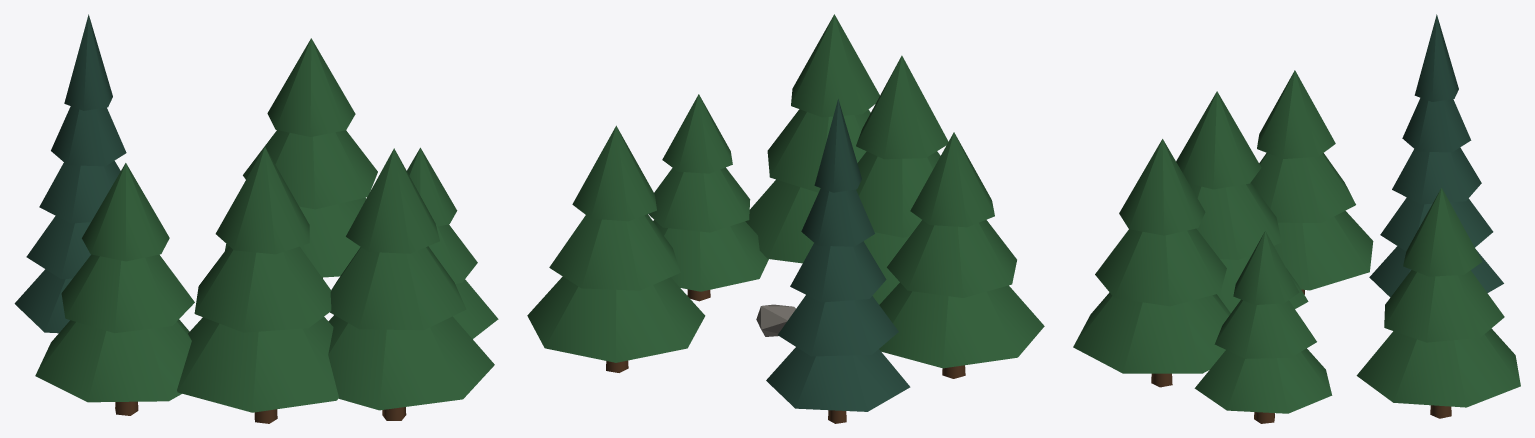
The model's file is sawyer_pine_stand_b.glb.
3 views of the same model, side by side, from view 1: azimuth 30°, elevation 25°; view 2: azimuth 150°, elevation 25°; view 3: azimuth 270°, elevation 25° (orthographic). The views are drawn at different scales.
Parts seen in each view (by area): view 1: pine_1_tier0, pine_0_tier0, pine_2_tier0, pine_1_tier1, pine_0_tier1, pine_2_tier1, pine_5_tier1, pine_1_tier2, pine_0_tier2, pine_5_tier2, pine_2_tier2, spruce_6_tier3 (+8 smaller); view 2: pine_5_tier0, pine_2_tier0, pine_2_tier1, pine_5_tier1, spruce_6_tier0, spruce_6_tier1, pine_1_tier2, pine_3_tier0, pine_0_tier2, pine_3_tier1, pine_1_tier1, pine_5_tier2 (+9 smaller); view 3: pine_0_tier0, pine_5_tier0, pine_0_tier1, pine_5_tier1, pine_3_tier0, pine_2_tier0, pine_2_tier1, pine_1_tier2, pine_0_tier2, pine_1_tier1, pine_3_tier1, pine_5_tier2 (+8 smaller).
Boxes of the visible parts, x1,y1,x2,y2 form: pine_1_tier0: (177,317,338,412); pine_0_tier0: (328,315,494,410); pine_2_tier0: (35,319,191,402); pine_1_tier1: (194,246,331,332); pine_0_tier1: (330,246,466,330); pine_2_tier1: (61,254,194,333); pine_5_tier1: (243,130,377,209); pine_1_tier2: (215,147,309,254); pine_0_tier2: (346,148,439,253); pine_5_tier2: (267,38,355,136); pine_2_tier2: (82,163,169,261); spruce_6_tier3: (51,106,126,166); pine_5_tier0: (527,276,705,362); pine_2_tier0: (879,282,1044,368); pine_2_tier1: (887,220,1016,297); pine_5_tier1: (549,214,680,290); spruce_6_tier0: (766,347,910,411); spruce_6_tier1: (778,295,898,356); pine_1_tier2: (856,55,948,159); pine_3_tier0: (653,220,768,291); pine_0_tier2: (791,14,879,117); pine_3_tier1: (648,167,750,232); pine_1_tier1: (856,151,940,237); pine_5_tier2: (572,125,656,221); pine_0_tier0: (1073,292,1230,373); pine_5_tier0: (1356,328,1520,407); pine_0_tier1: (1095,228,1226,306); pine_5_tier1: (1384,270,1504,342); pine_3_tier0: (1194,348,1332,413); pine_2_tier0: (1274,211,1373,290); pine_2_tier1: (1250,153,1355,222); pine_1_tier2: (1176,91,1261,189); pine_0_tier2: (1119,139,1205,235); pine_1_tier1: (1189,183,1281,259); pine_3_tier1: (1214,299,1316,358); pine_5_tier2: (1403,188,1482,276).
Bounding box in the file's own units: 4.62 × 3.5 × 4.67.
